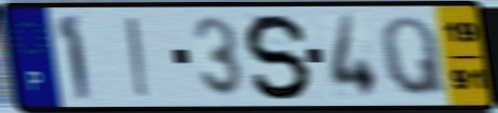1: (53, 13, 94, 103)
3: (191, 14, 245, 100)
4: (328, 10, 381, 102)
I: (123, 15, 154, 100)
Q: (378, 14, 451, 99)
S: (242, 11, 316, 103)
